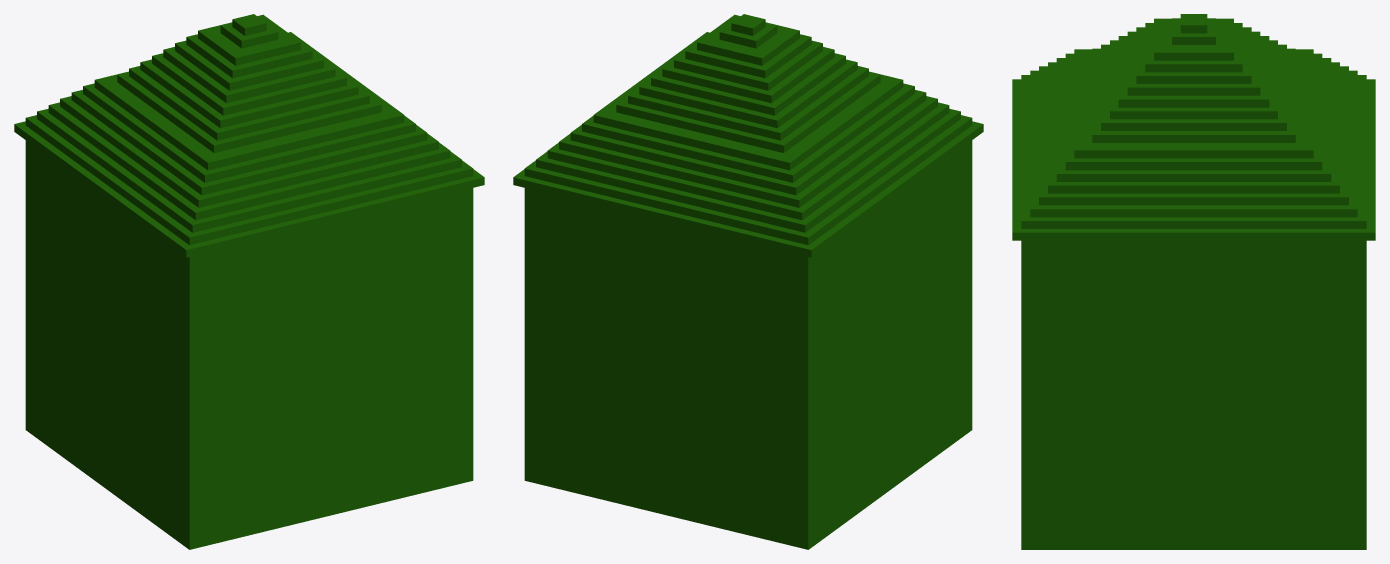
The model's file is house2.gltf.
3 renders of one model, left to right at view 1: azimuth 30°, elevation 25°; view 2: azimuth 150°, elevation 25°; view 3: azimuth 270°, elevation 25°, orthographic. The views are drawn at different scales.
Visible parts, largest first — view 1: Cube.096; view 2: Cube.096; view 3: Cube.096.
Part boxes in pixels (<box>): Cube.096: <box>14,14,484,549</box>; Cube.096: <box>513,14,983,549</box>; Cube.096: <box>1012,14,1375,549</box>.
Size of the model in its own units: 0.1994 by 0.2772 by 0.1994.
